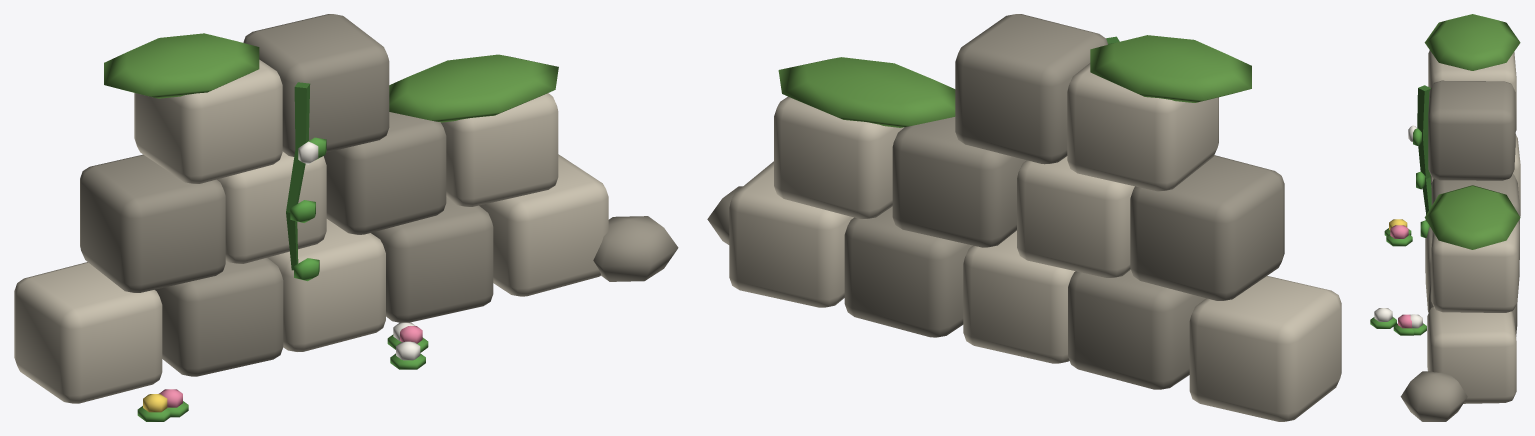
The model's file is RuinWall.fbx.
The picture shows the model from 3 angles, left to right: view 1: azimuth 30°, elevation 25°; view 2: azimuth 150°, elevation 25°; view 3: azimuth 270°, elevation 25°; orthographic projection. The views are drawn at different scales.
Visible parts, largest first — view 1: Frame; view 2: Frame; view 3: Frame.
Boxes of the visible parts, x1=… form: Frame: x1=14, y1=14, x2=678, y2=421; Frame: x1=707, y1=14, x2=1341, y2=421; Frame: x1=1370, y1=14, x2=1520, y2=421.
Size of the model in its own units: 5.44 by 2.7 by 1.57.
1 material, 1 textured.
